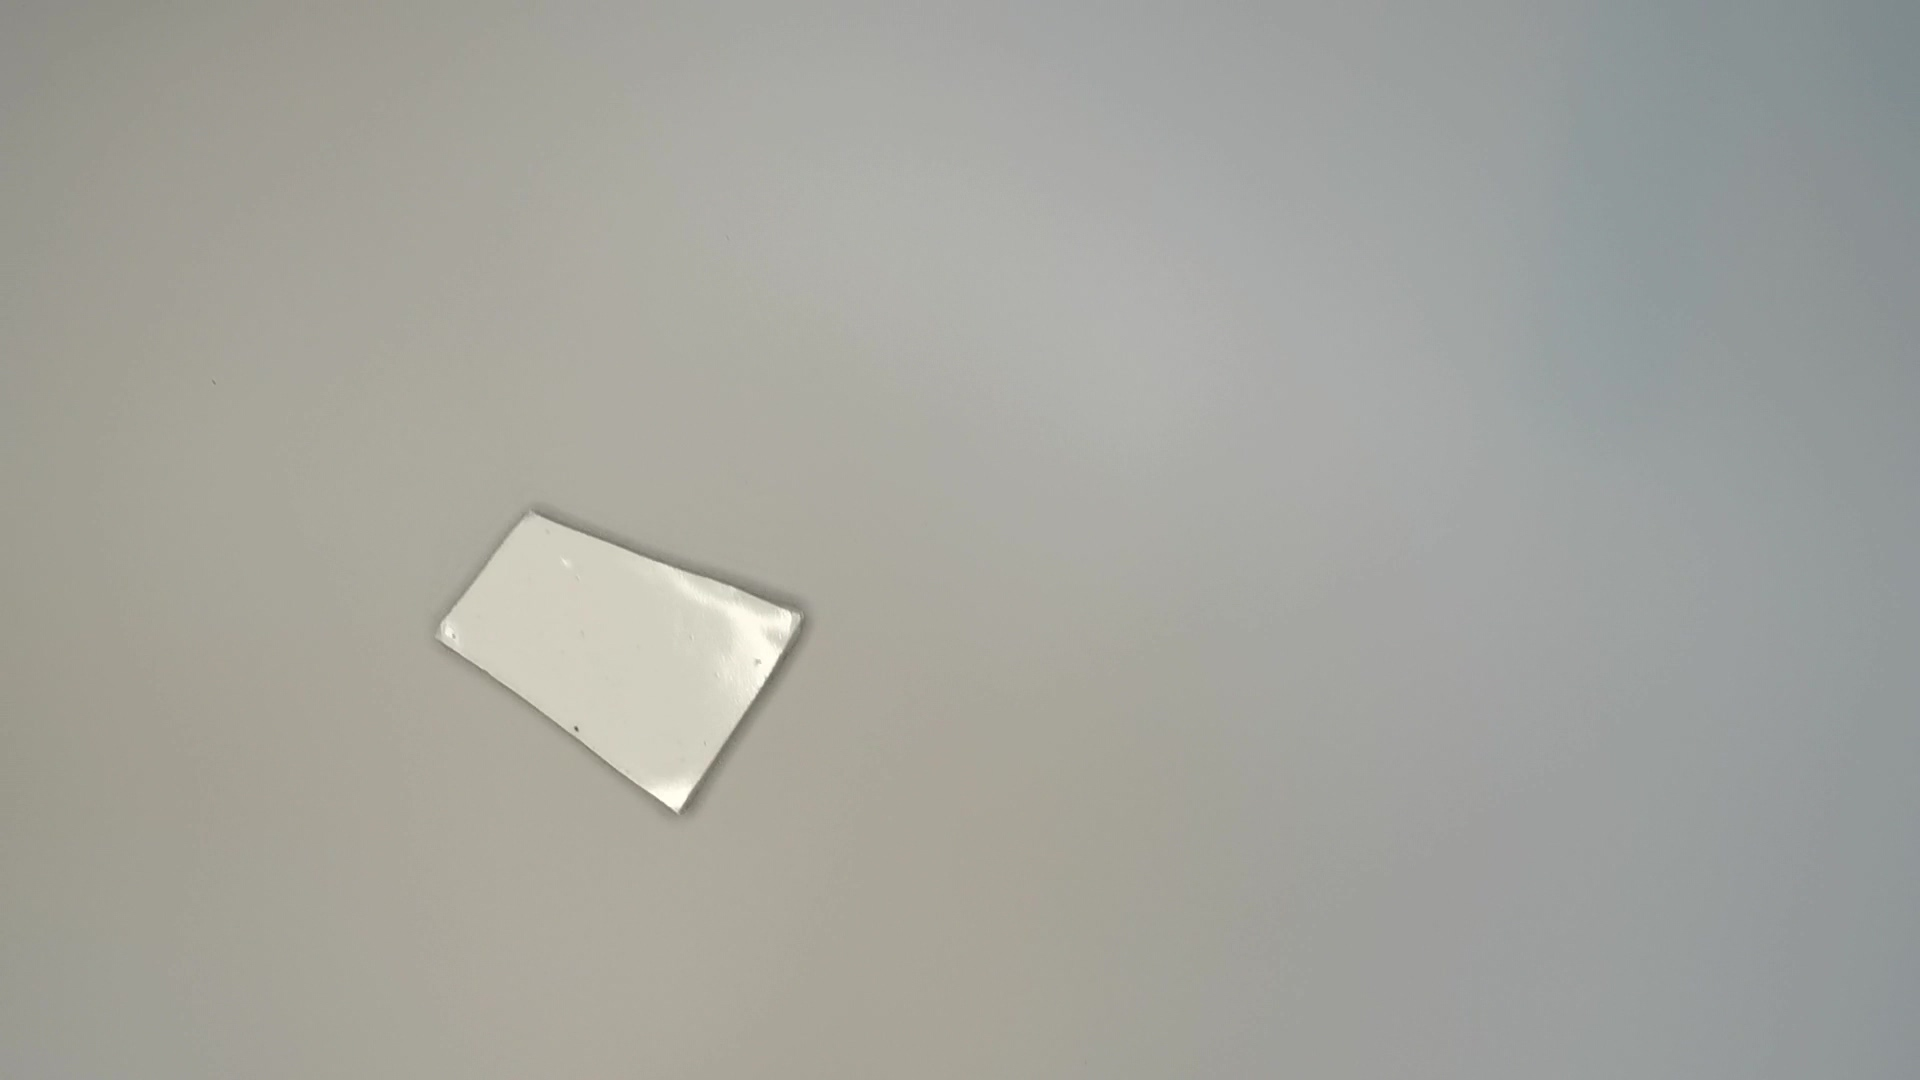ceramic: (433, 502, 818, 820)
